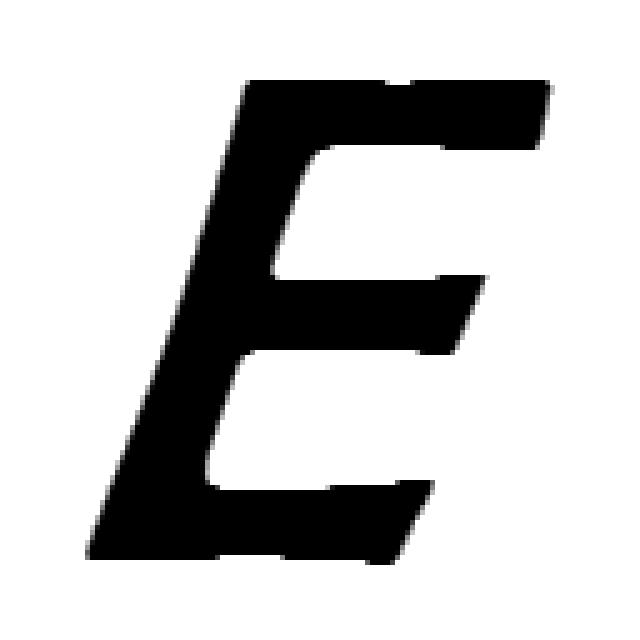E: (90, 80, 550, 565)
